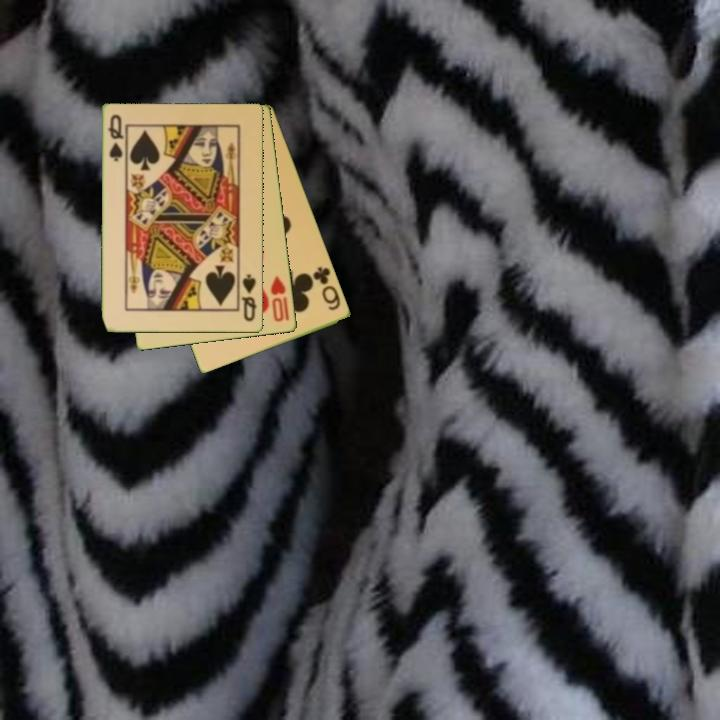10h: (267, 273, 289, 325)
6c: (310, 263, 344, 314)
Qs: (238, 271, 259, 325), (105, 111, 126, 165)
